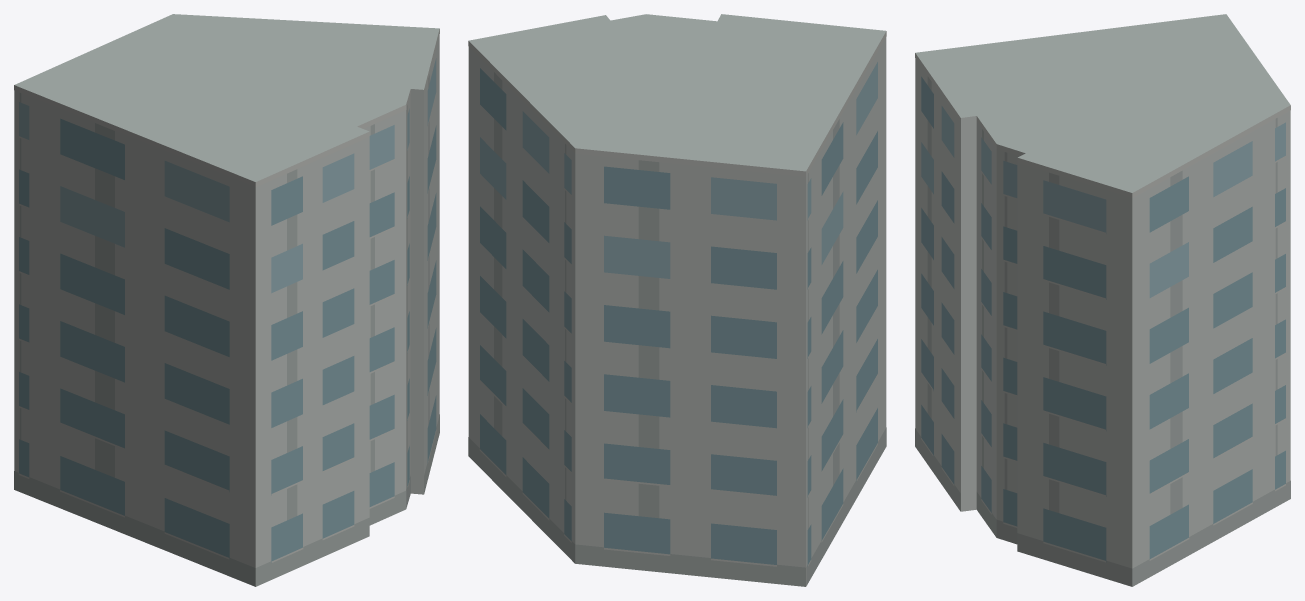
The model's file is survey-upis-33016329.glb.
3 views of the same model, side by side, from view 1: azimuth 30°, elevation 25°; view 2: azimuth 150°, elevation 25°; view 3: azimuth 270°, elevation 25° (orthographic). The views are drawn at different scales.
Parts seen in each view (by area): view 1: survey-upis-33016329.tmp; view 2: survey-upis-33016329.tmp; view 3: survey-upis-33016329.tmp.
Part boxes in pixels (x1,y1,x2,y2): survey-upis-33016329.tmp: (14,14,439,586); survey-upis-33016329.tmp: (468,14,886,586); survey-upis-33016329.tmp: (915,14,1290,586).
Size of the model in its own units: 17.86 by 18.3 by 15.83.
